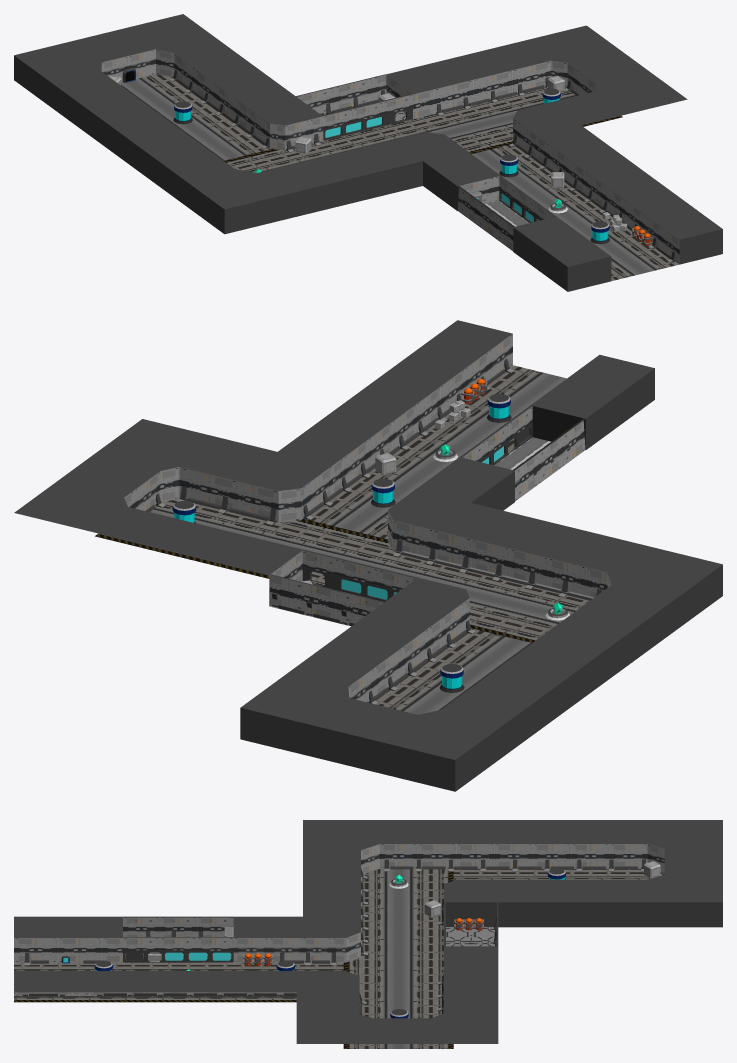
Rendered from level2StationMesh.glb.
The picture shows the model from 3 angles, top to bottom: view 1: azimuth 30°, elevation 25°; view 2: azimuth 150°, elevation 25°; view 3: azimuth 270°, elevation 25°; orthographic projection. The views are drawn at different scales.
Parts seen in each view (by area): view 1: onePieceLevel2; view 2: onePieceLevel2; view 3: onePieceLevel2.
Boxes of the visible parts, bbox=[...] form: onePieceLevel2: bbox=[14, 14, 722, 291]; onePieceLevel2: bbox=[14, 320, 722, 791]; onePieceLevel2: bbox=[14, 820, 722, 1048].
Bounding box in the file's own units: 963 × 50.99 × 1289.
7 materials, 7 textured.
